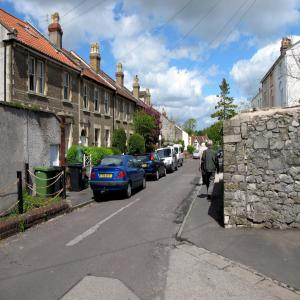Vehicle-registration-plate: (101, 174, 113, 179), (143, 165, 147, 168)
